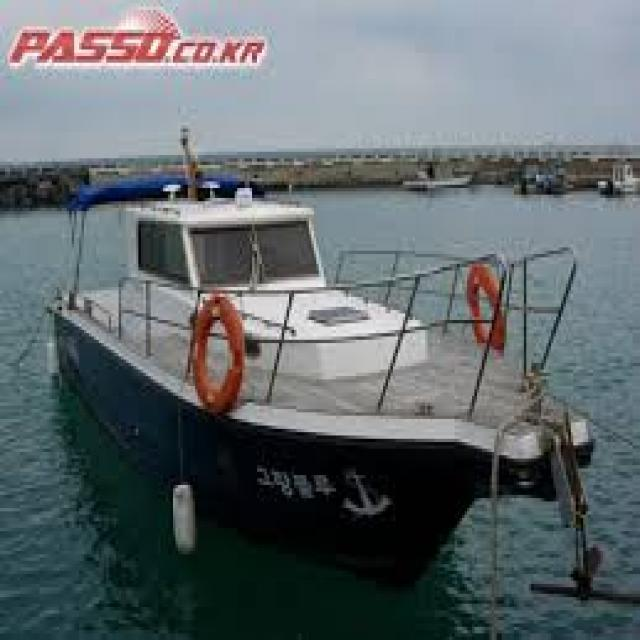Ship: (50, 133, 614, 612)
